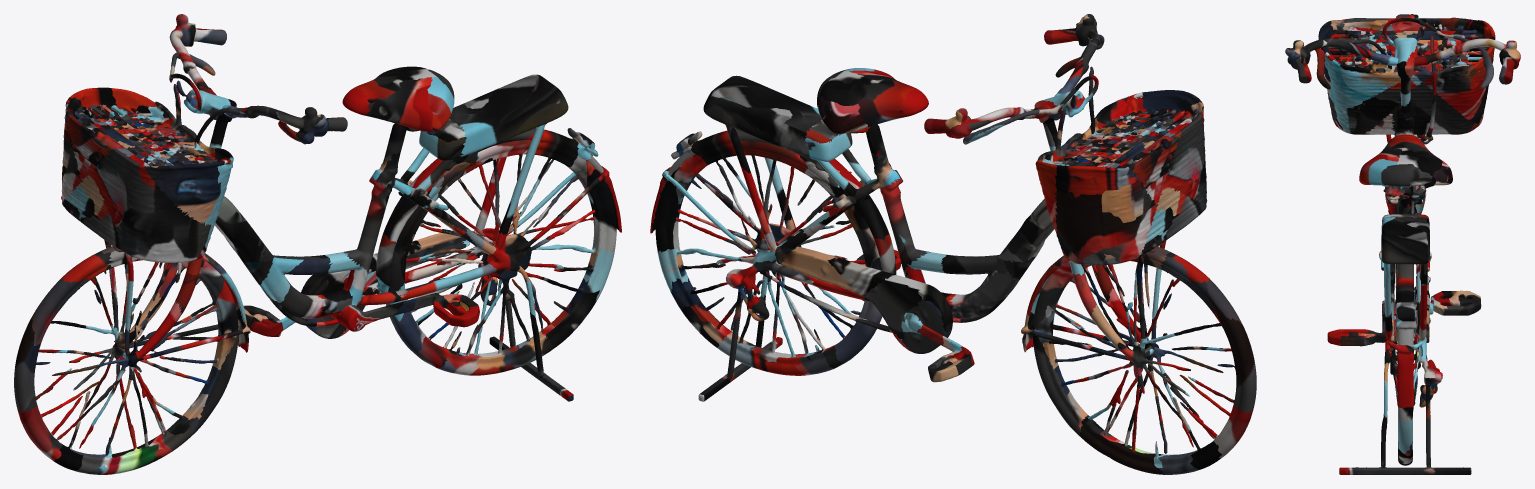
The model's file is Dap2.fbx.
The picture shows the model from 3 angles, left to right: view 1: azimuth 30°, elevation 25°; view 2: azimuth 150°, elevation 25°; view 3: azimuth 270°, elevation 25°; orthographic projection. The views are drawn at different scales.
Visible parts, largest first — view 1: tripo_node_b4faaf7a-4ced-4720-be2f-b3468bf09bab; view 2: tripo_node_b4faaf7a-4ced-4720-be2f-b3468bf09bab; view 3: tripo_node_b4faaf7a-4ced-4720-be2f-b3468bf09bab.
Part boxes in pixels (<box>): tripo_node_b4faaf7a-4ced-4720-be2f-b3468bf09bab: <box>14,14,621,474</box>; tripo_node_b4faaf7a-4ced-4720-be2f-b3468bf09bab: <box>650,14,1256,474</box>; tripo_node_b4faaf7a-4ced-4720-be2f-b3468bf09bab: <box>1285,14,1520,474</box>.
Size of the model in its own units: 100 by 60.37 by 40.57.
